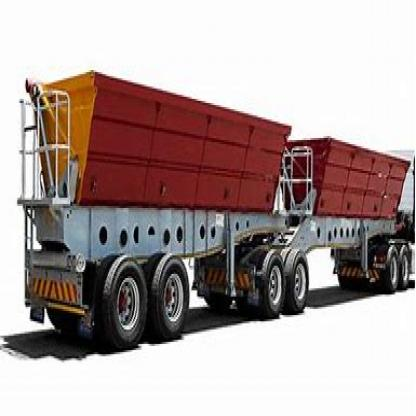dump_truck: (13, 56, 415, 332)
